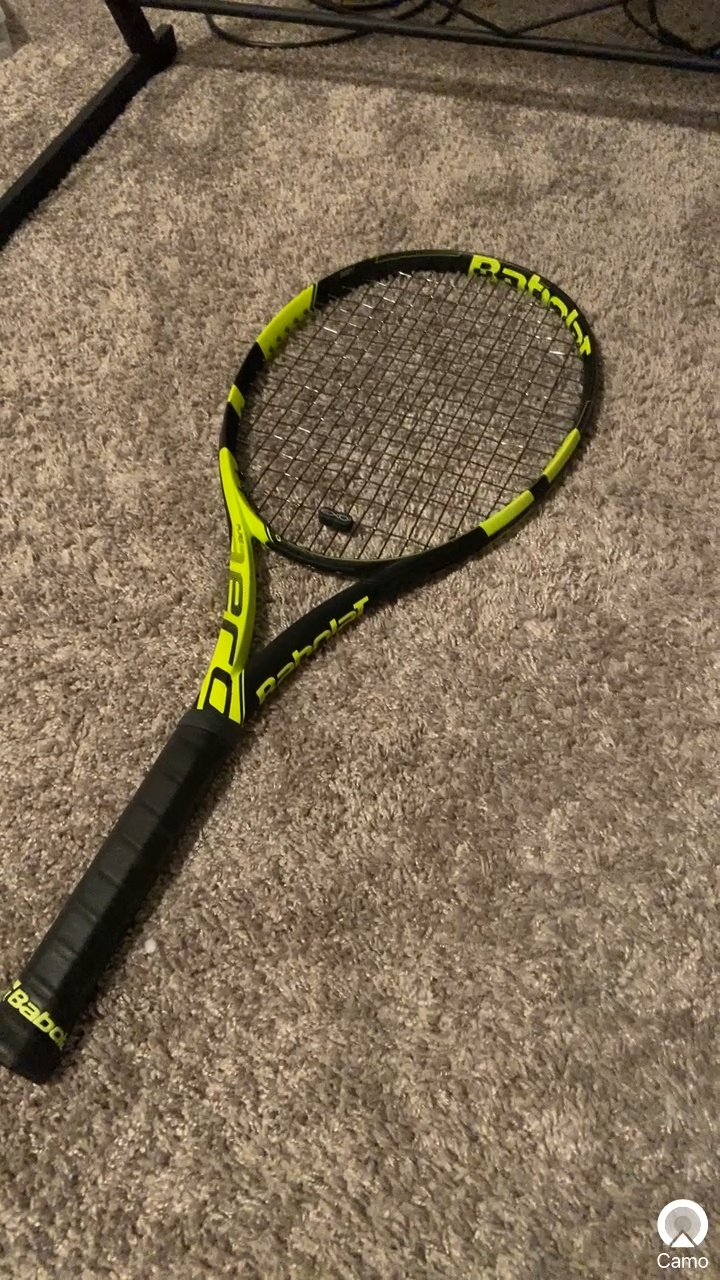Tennis_Racquet: (1, 235, 638, 1132)
